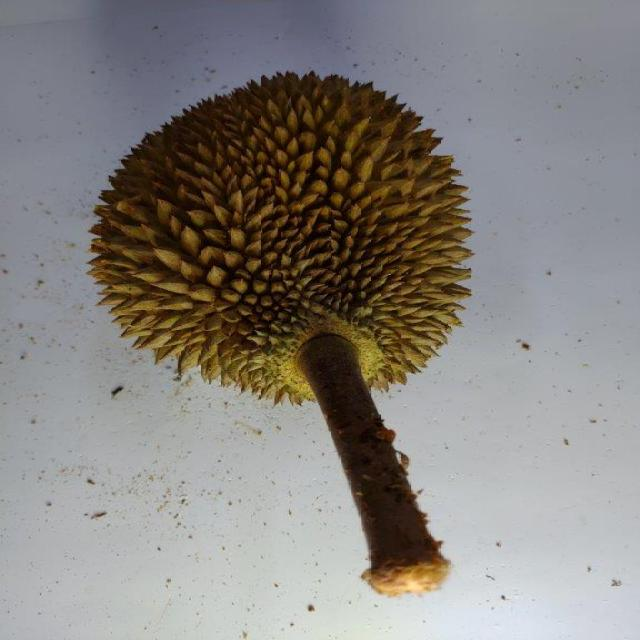mature: (90, 65, 475, 414)
